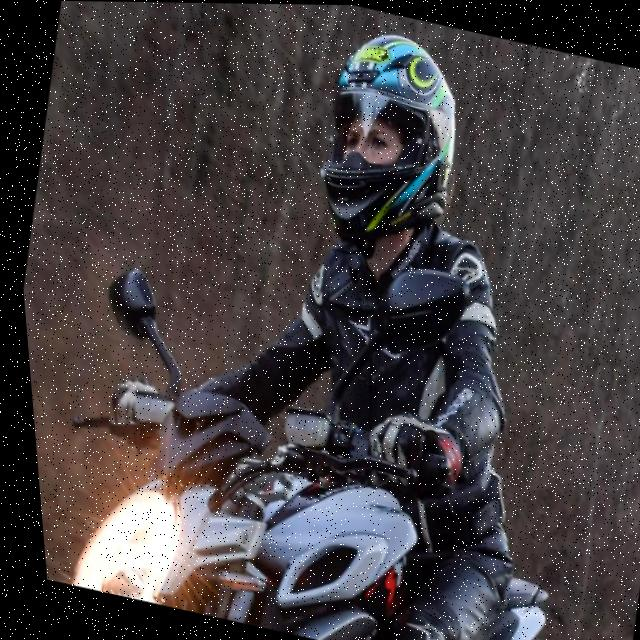helmet: (290, 13, 487, 270)
